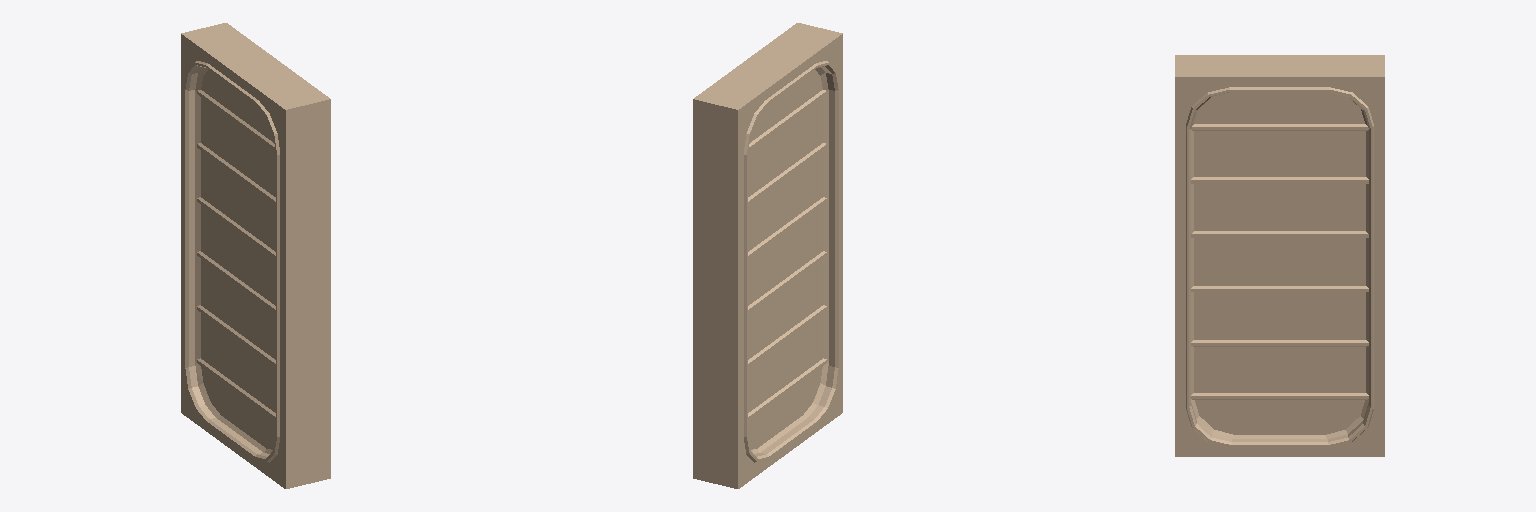
Rendered from sliding_seal_door_old.obj.
3 views of the same model, side by side, from view 1: azimuth 30°, elevation 25°; view 2: azimuth 150°, elevation 25°; view 3: azimuth 270°, elevation 25° (orthographic).
Parts seen in each view (by area): view 1: frame, door; view 2: frame, door; view 3: door, frame.
Part boxes in pixels (x1,y1,x2,y2): frame: (181,23,330,488); door: (195,67,275,453); frame: (693,23,842,488); door: (748,67,828,453); door: (1191,92,1368,438); frame: (1175,55,1384,456).
Bounding box in the file's own units: 0.2786 × 2 × 1.